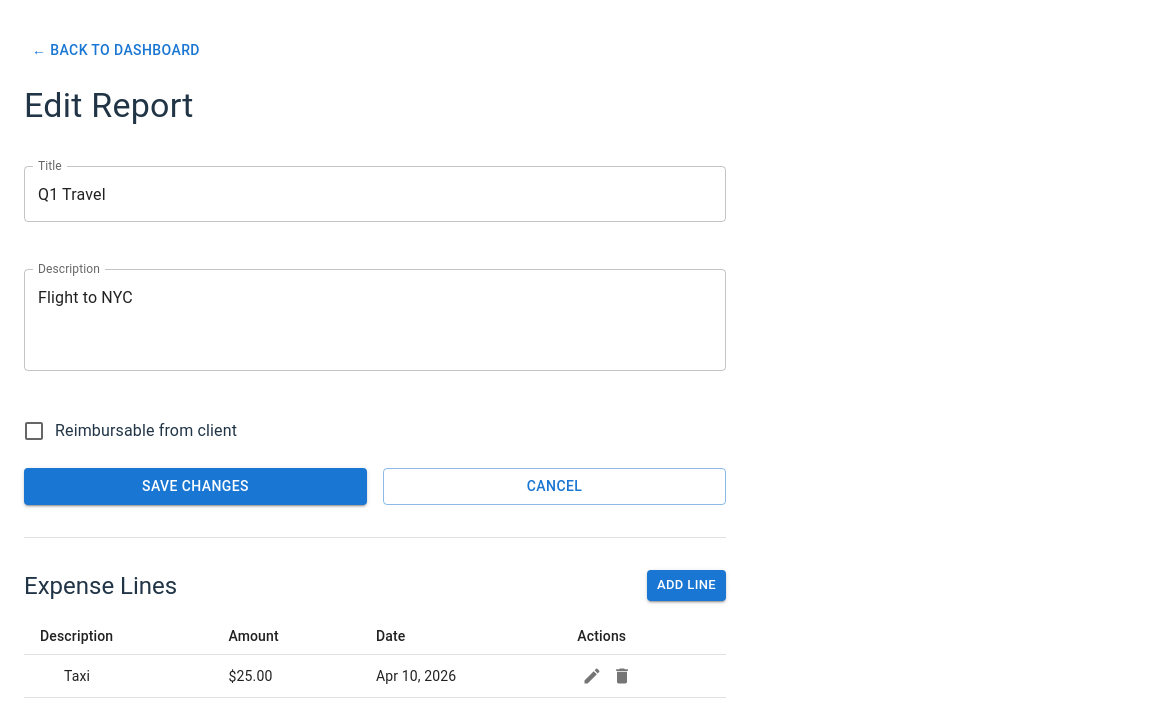
Test case: EditReportPage › closes delete dialog without deleting when Cancel is clicked
The image size is (1152, 706).
Step 1. Click the button named "delete line" → coordinates (622, 676), box [607, 661, 637, 691]
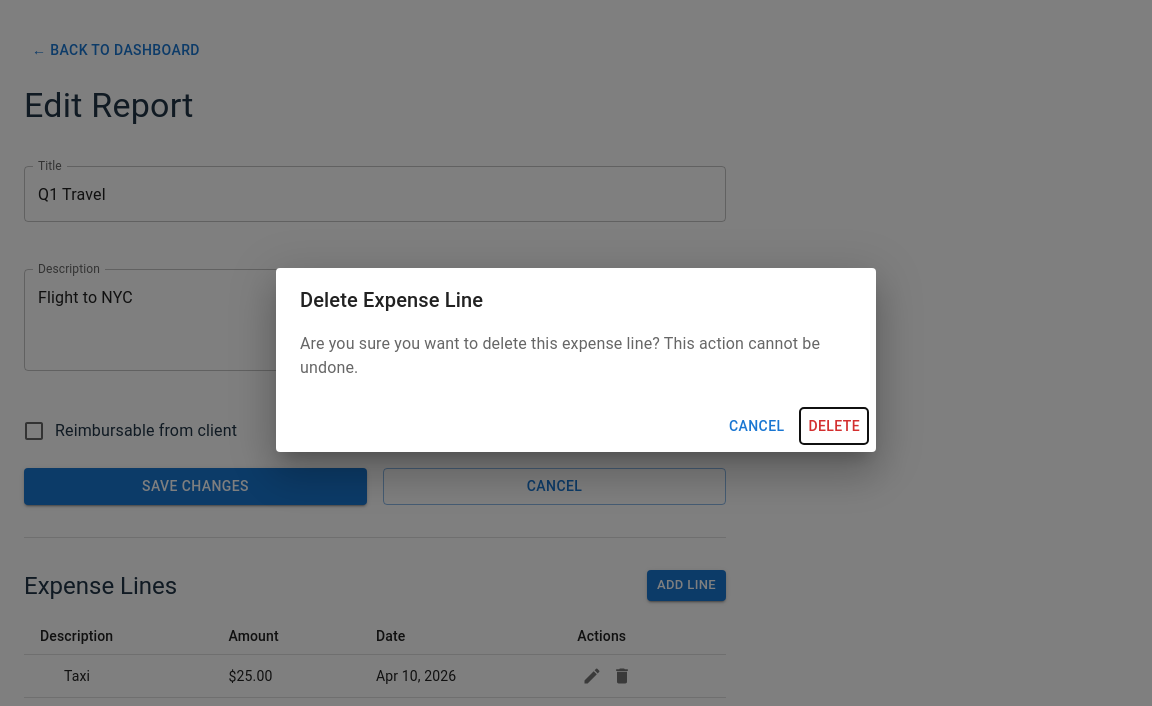
Step 2. Click the button "Cancel" → coordinates (757, 426), box [721, 408, 792, 444]
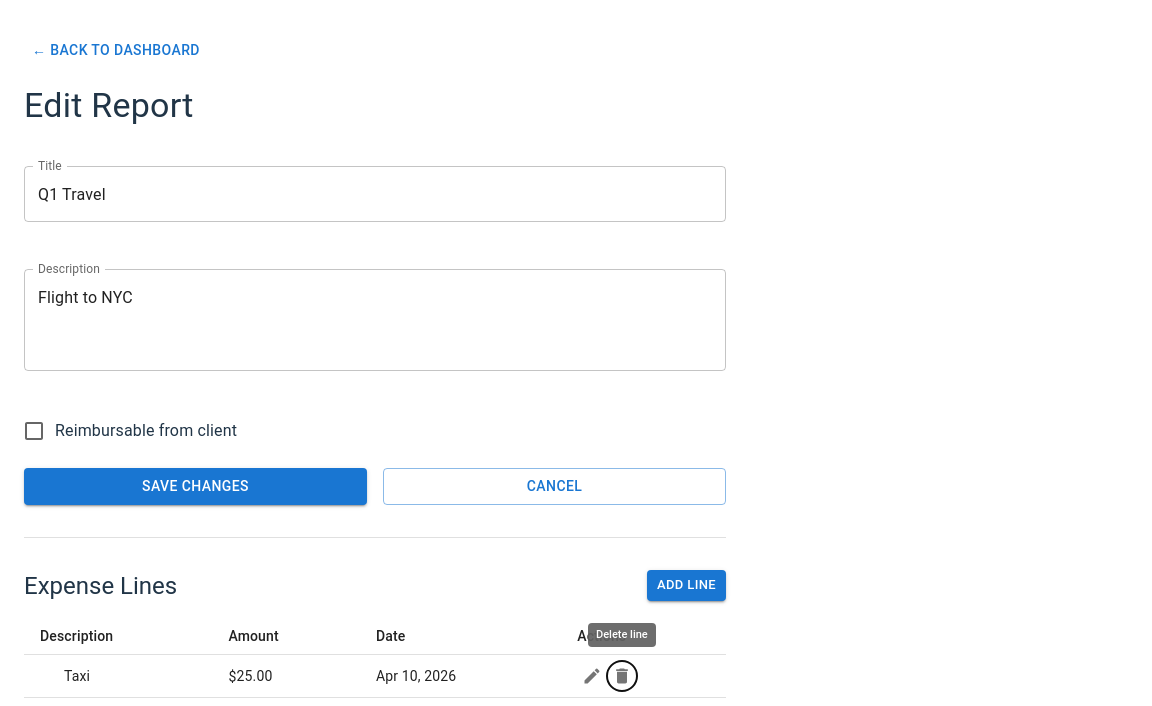
Expected: the heading "Delete Expense Line" is gone
